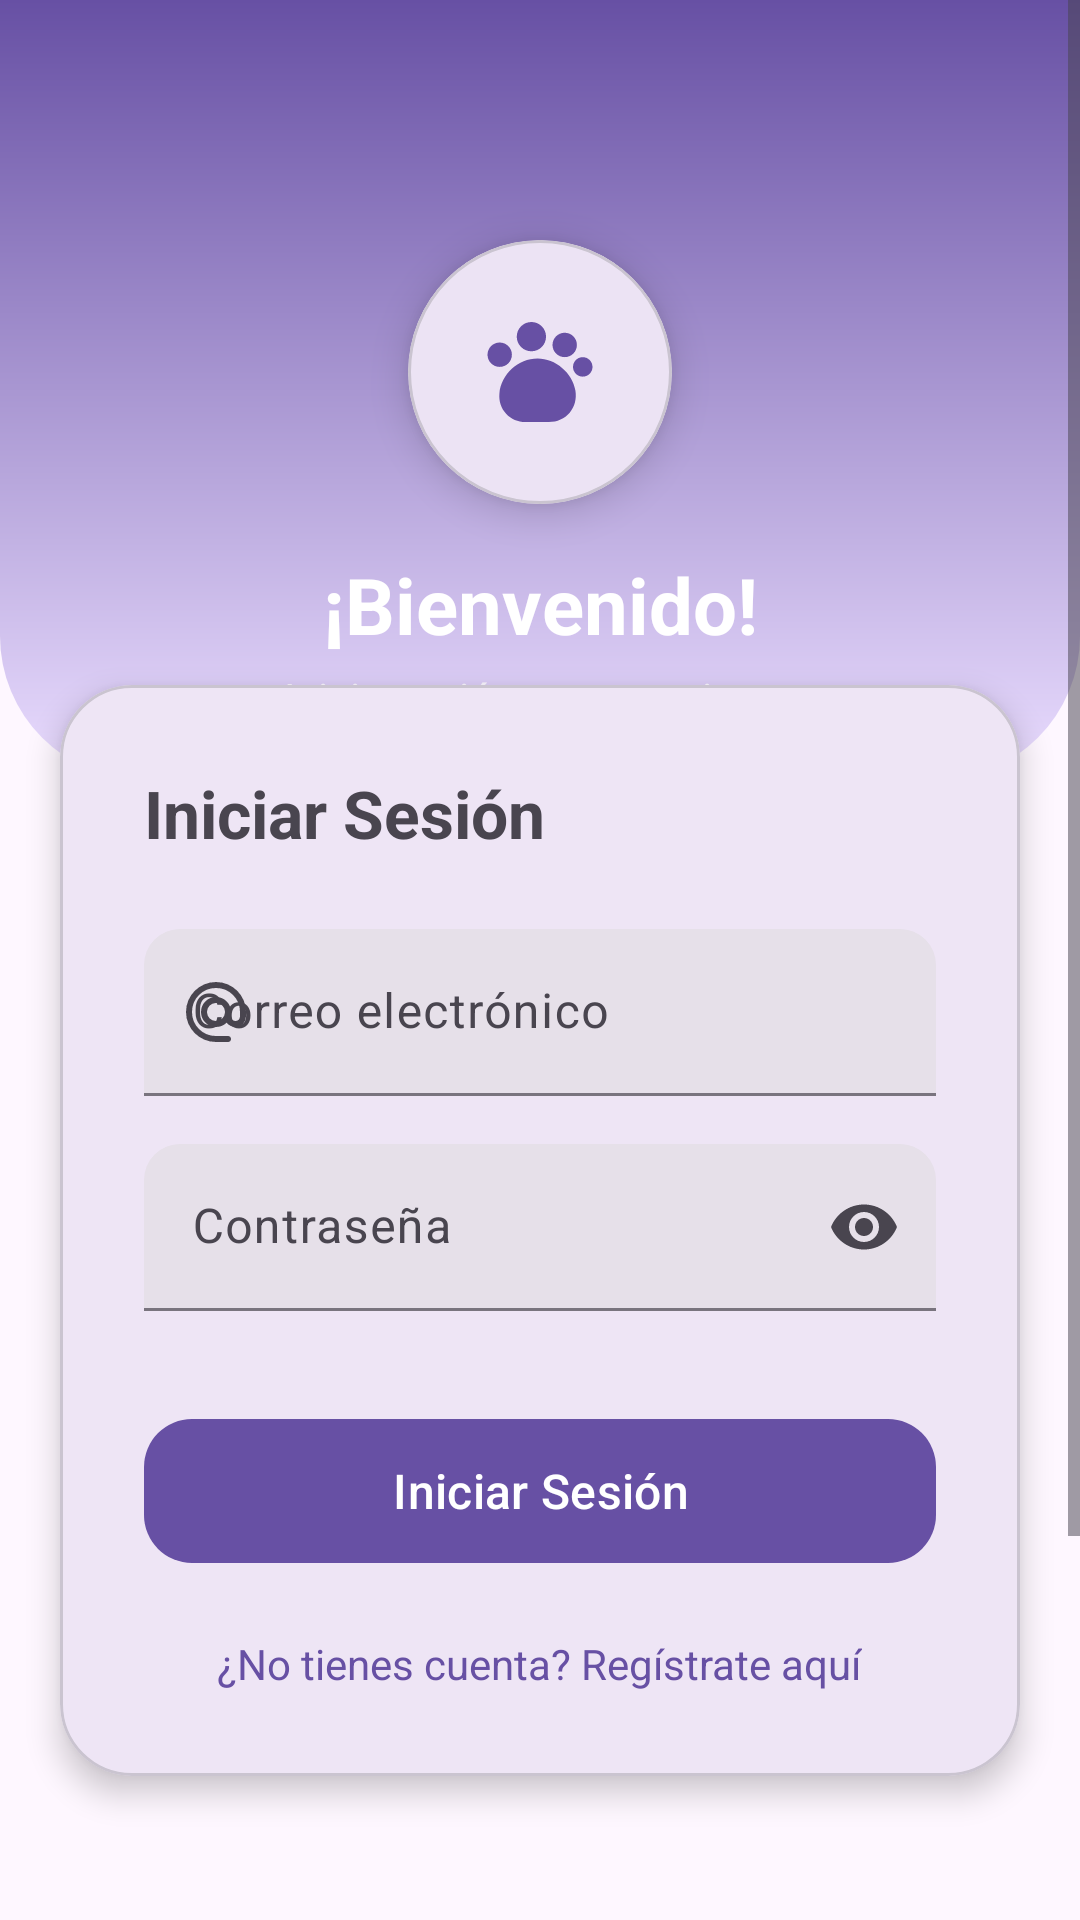

Point at icon controls on the screen. Image size 1080px x 1920px, points as (x=x, y=y).
pets: (x=540, y=372)
